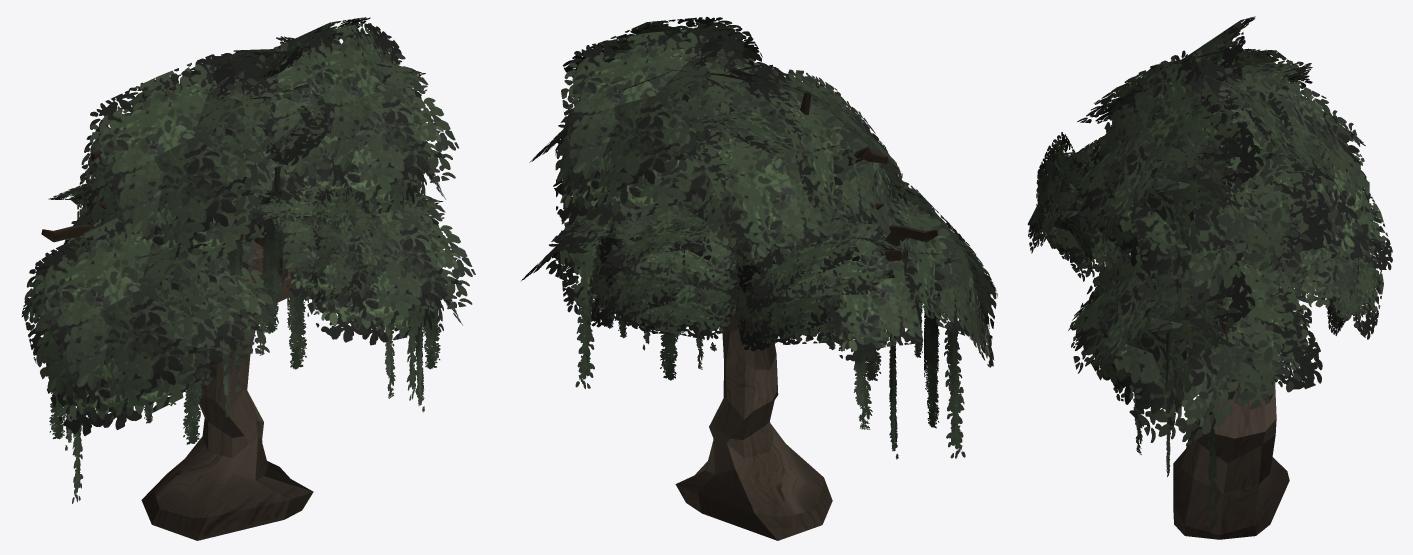
The model's file is WeepingWillowTreeModel (1).fbx.
3 renders of one model, left to right at view 1: azimuth 30°, elevation 25°; view 2: azimuth 150°, elevation 25°; view 3: azimuth 270°, elevation 25°, orthographic. The views are drawn at different scales.
Parts seen in each view (by area): view 1: WeepingWillowTreeModel2, WeepingWillowTreeBase, WeepingWillowTreeModel; view 2: WeepingWillowTreeModel2, WeepingWillowTreeBase, WeepingWillowTreeModel; view 3: WeepingWillowTreeModel2, WeepingWillowTreeBase, WeepingWillowTreeModel.
Boxes of the visible parts, x1,y1,x2,y2 form: WeepingWillowTreeModel2: (21,17,475,435); WeepingWillowTreeBase: (41,61,396,540); WeepingWillowTreeModel: (49,166,440,503); WeepingWillowTreeModel2: (521,17,997,367); WeepingWillowTreeBase: (576,92,938,540); WeepingWillowTreeModel: (575,241,965,459); WeepingWillowTreeModel2: (1027,16,1392,445); WeepingWillowTreeBase: (1173,30,1289,539); WeepingWillowTreeModel: (1133,329,1217,526).
Bounding box in the file's own units: 1097 × 1155 × 793.
Materials: 3 (3 with a texture image).
